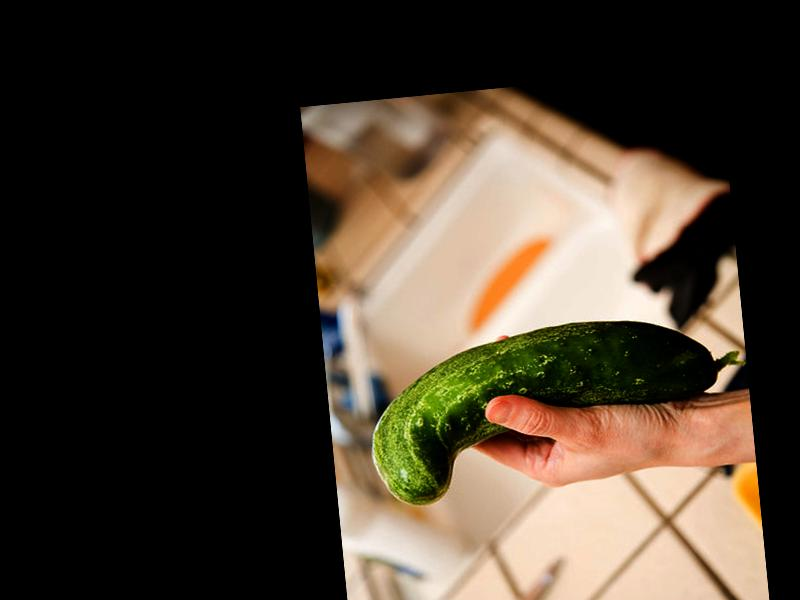Cucumber: (361, 306, 751, 508)
